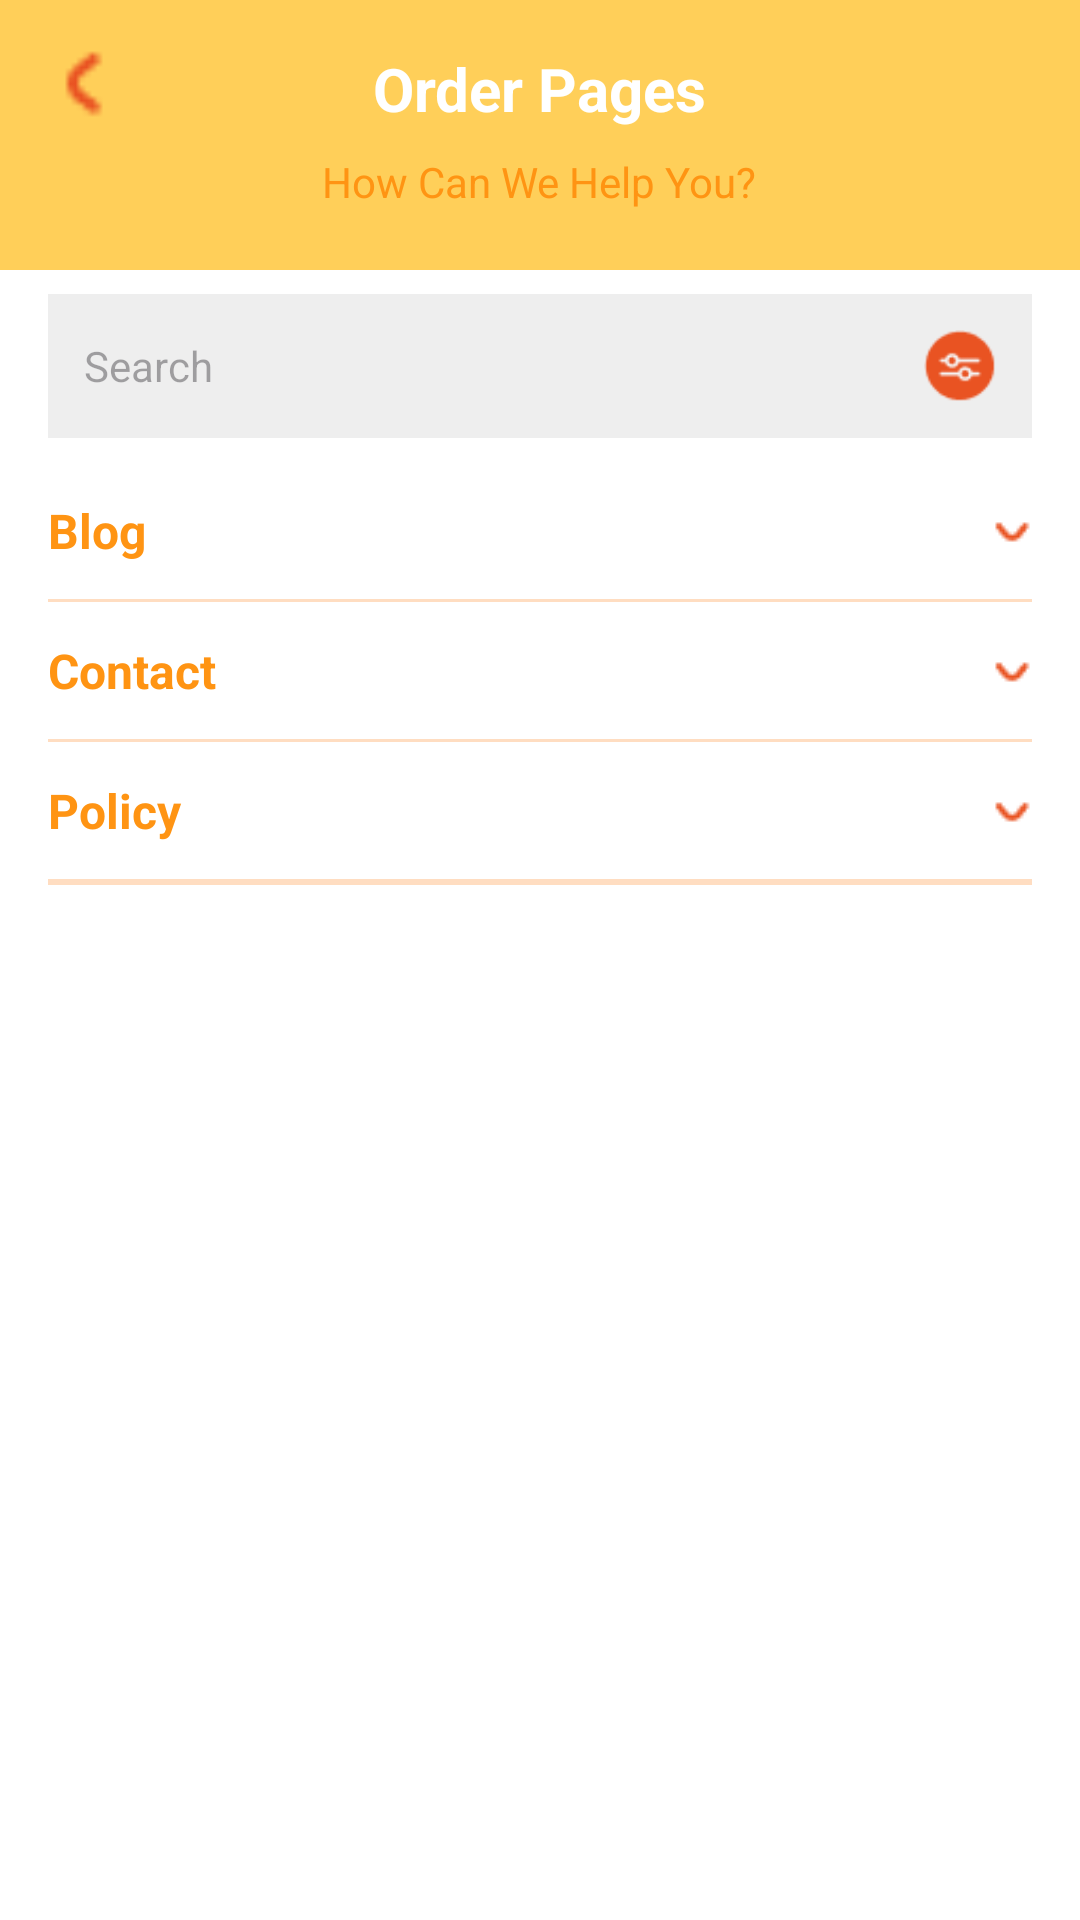

Named icons in this screenshot (1080w x 1920h) and their bounding boxes, (x1, y1, x2, y2):
back: (66, 52, 102, 115)
filter: (924, 330, 995, 401)
